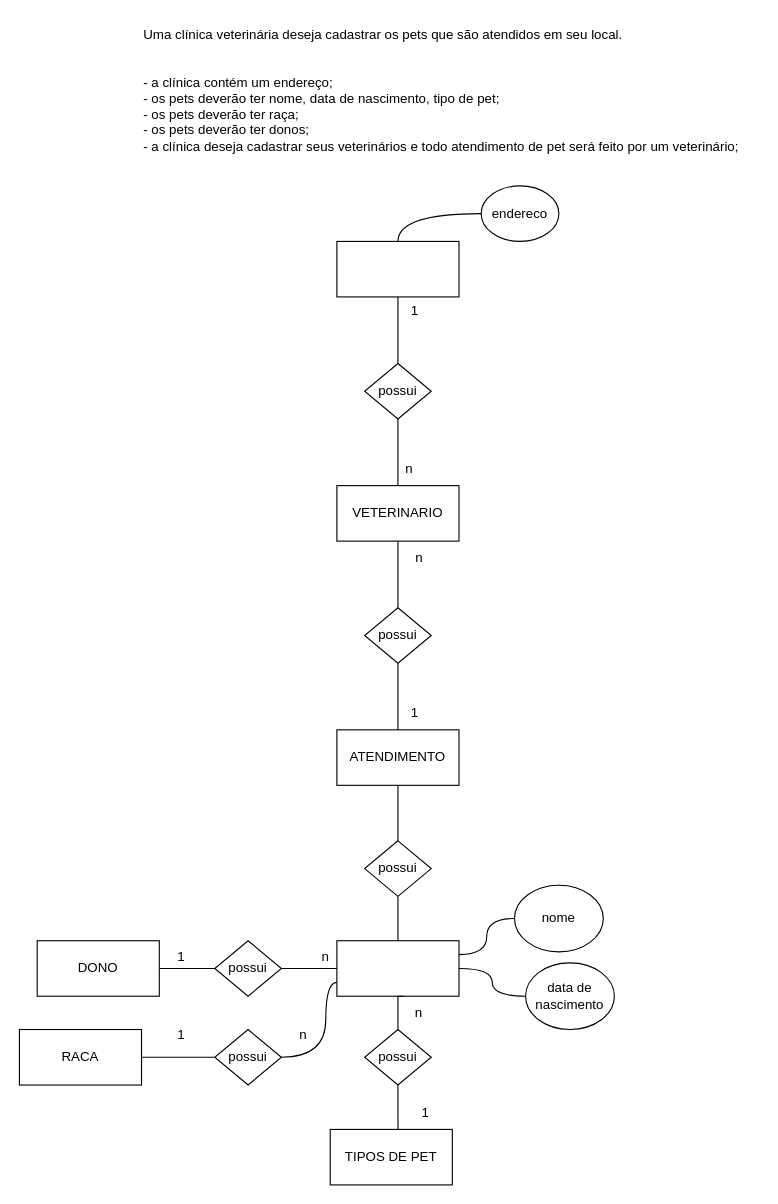
This 778x1204 diagram has some shape labels left out. The centre of each missing label's shape, as x and y in pixels:
"CLINICA" belongs at pixel 397 268.
"PETS" belongs at pixel 397 968.
